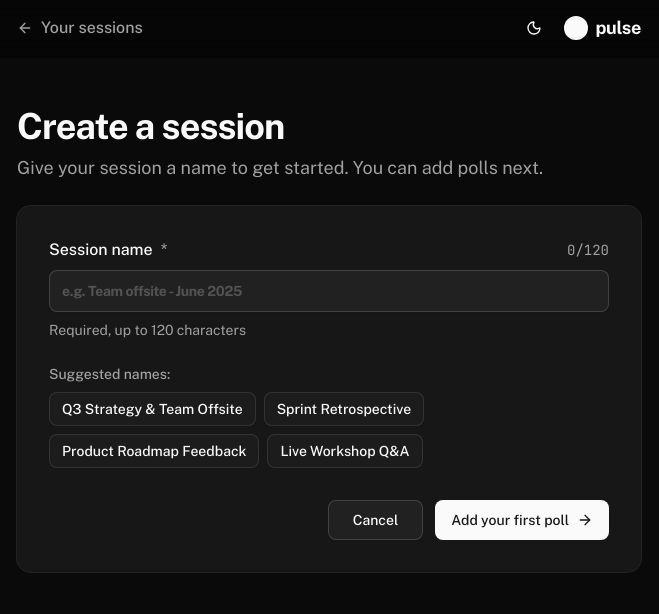
Test: CreateSessionPage › shows error when submitting empty name
Click the button "Add your first poll" at (522, 520), box [435,500,609,540]
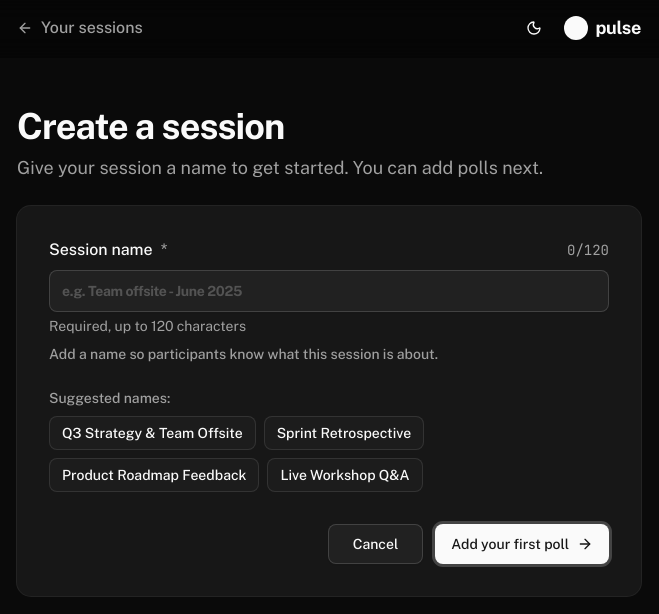
Now the text "Add a name so participants know what this session is about." is shown, box [49,346,438,362]
